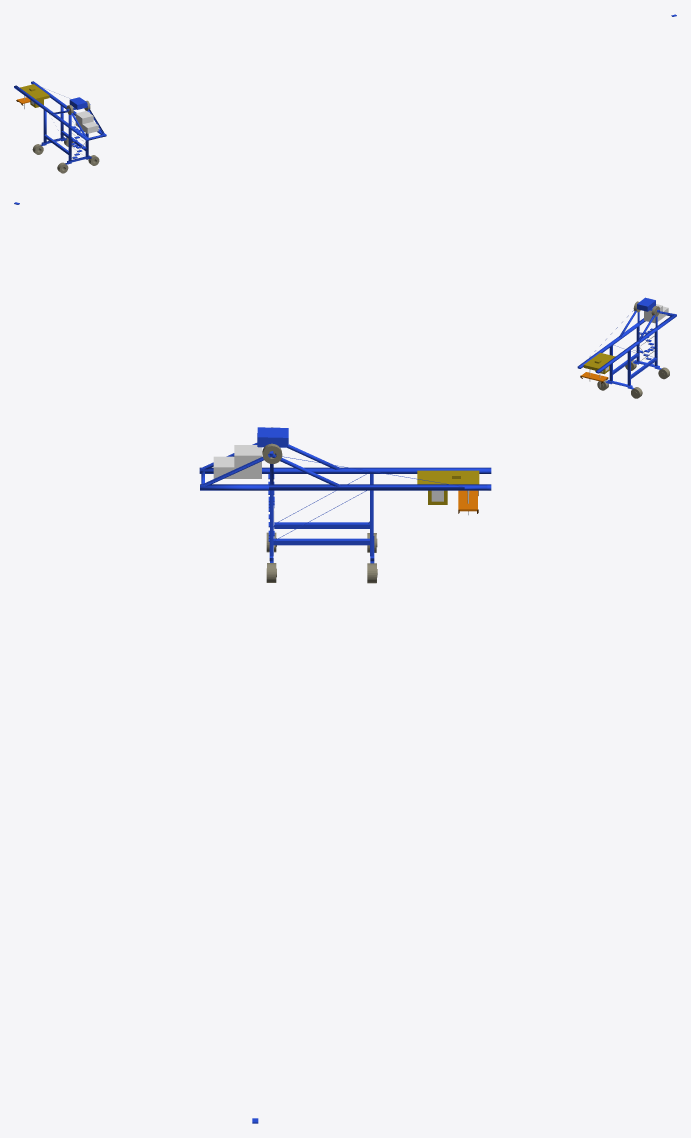
File: crane_harbour_bak2.glb
3 views of the same model, one above another, from view 1: azimuth 30°, elevation 25°; view 2: azimuth 150°, elevation 25°; view 3: azimuth 270°, elevation 25° (orthographic). The views are drawn at different scales.
Parts seen in each view (by area): view 1: 框架, Cube, 滑车.003; view 2: 框架; view 3: 框架, Cube.
Boxes of the visible parts, x1,y1,x2,y2 form: 框架: [14, 81, 106, 164]; Cube: [75, 111, 98, 133]; 滑车.003: [20, 84, 49, 100]; 框架: [577, 308, 676, 389]; 框架: [199, 443, 491, 563]; Cube: [213, 445, 261, 478].
Size of what is drawn, in the model's own units: 143 by 15.03 by 29.41.
